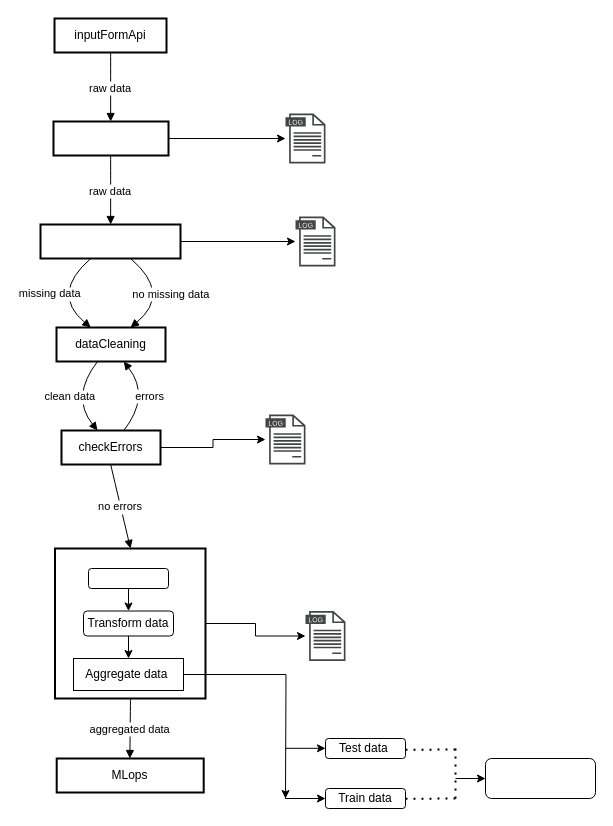
Some shapes in this 613 by 826 pixel diagram are drawn without their labels. Each missing label, with the centre of its shape:
"checkMissingData" goes at (x=110, y=241).
"Extract Data" goes at (x=128, y=578).
"For Data validation and training model" goes at (x=540, y=778).
"storeRawData" goes at (x=110, y=138).
